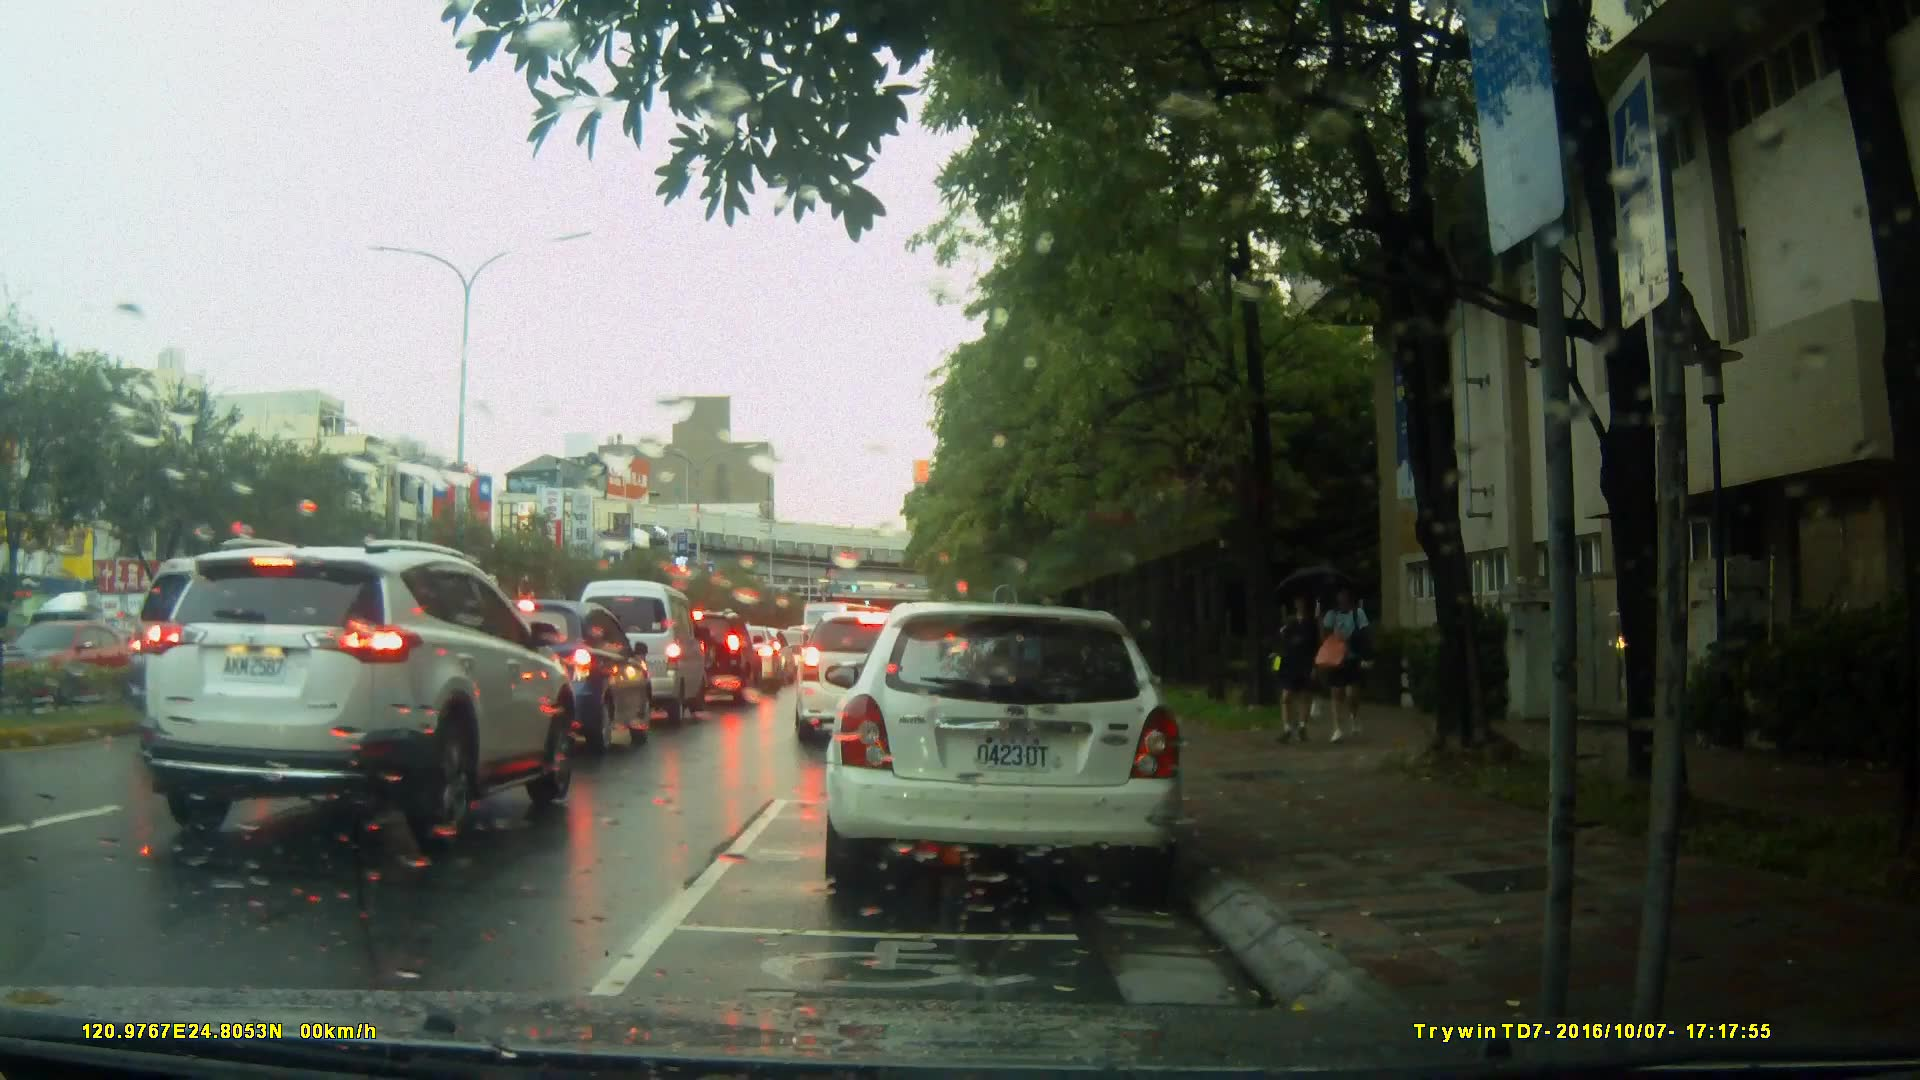pedestrian: (1314, 577, 1381, 750), (1264, 586, 1327, 745)
vehicle: (141, 535, 580, 849), (815, 593, 1204, 909), (459, 598, 657, 764), (558, 576, 705, 733), (790, 607, 942, 744), (1, 618, 156, 709), (656, 608, 765, 704)
